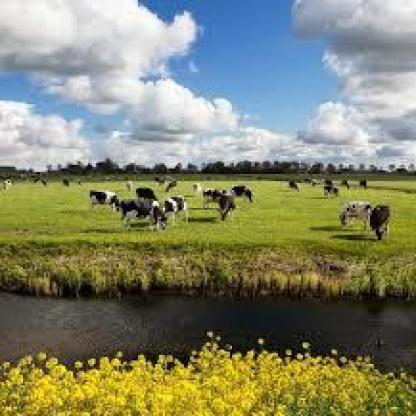cow: (122, 197, 172, 230), (370, 204, 393, 240), (340, 203, 373, 226), (86, 188, 121, 208), (158, 195, 189, 217), (218, 194, 238, 218), (203, 189, 228, 205), (228, 186, 255, 200), (134, 187, 159, 200), (319, 184, 342, 196), (357, 176, 371, 188), (163, 180, 178, 191), (2, 178, 15, 190), (304, 178, 321, 186), (340, 178, 352, 188), (41, 178, 51, 188), (155, 176, 167, 184), (64, 176, 72, 188), (286, 181, 299, 188), (319, 178, 333, 184), (125, 180, 134, 189), (193, 182, 200, 191), (77, 178, 86, 184)
